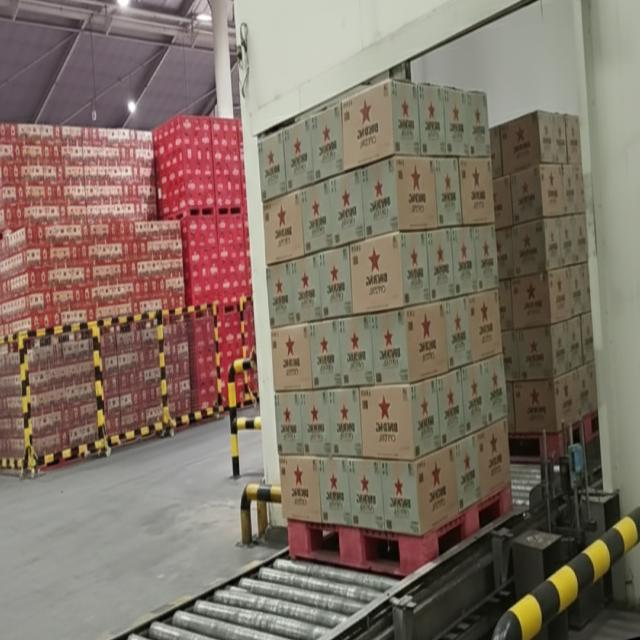pallet: (256, 69, 520, 596), (483, 106, 607, 470)
